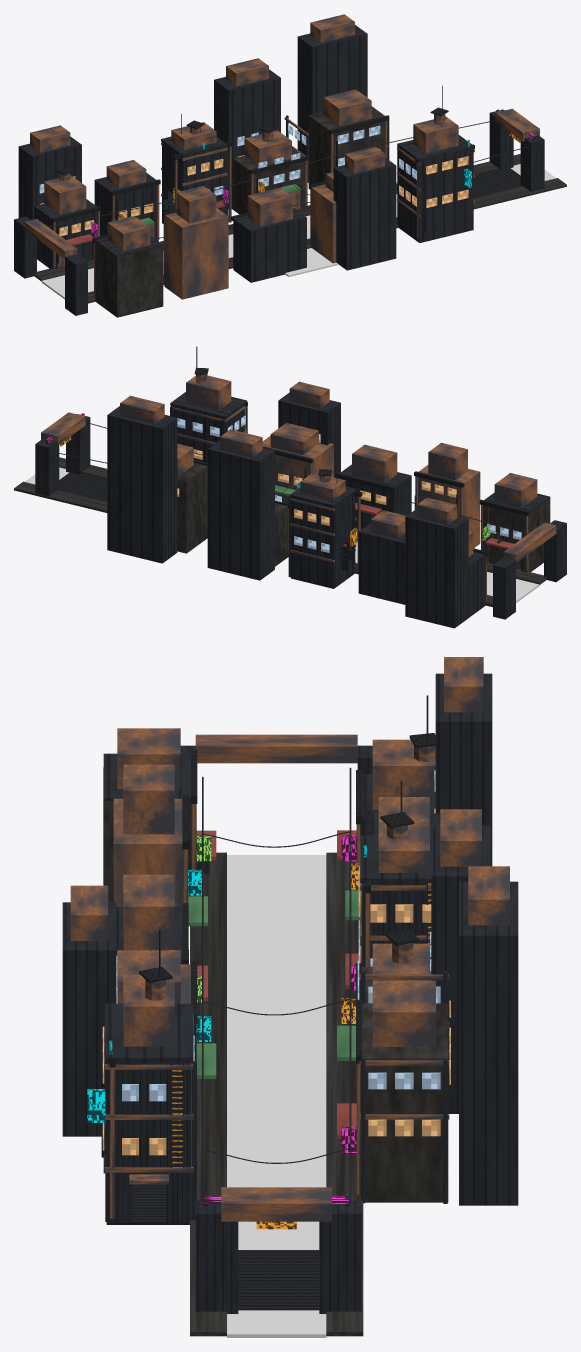
The model's file is Hesperus_AlienBar_CourtyardAlley.glb.
3 views of the same model, one above another, from view 1: azimuth 30°, elevation 25°; view 2: azimuth 150°, elevation 25°; view 3: azimuth 270°, elevation 25° (orthographic). The views are drawn at different scales.
Visible parts, largest first — view 1: ALY_TowerSouth_Mid, ALY_Building_04, ALY_TowerRear_E, ALY_Building_07, ALY_TowerRear_Mid, ALY_Shell10_FrontLeft, ALY_TowerRear_W, ALY_Shell03_Back, ALY_Building_09, ALY_Building_06, ALY_Building_02, ALY_Building_08 (+33 smaller); view 2: ALY_TowerRear_E, ALY_TowerRear_Mid, ALY_TowerRear_W, ALY_Building_02, ALY_Shell05_North, ALY_Building_09, ALY_TowerSouth_Mid, ALY_Building_04, ALY_Building_07, ALY_Building_08, ALY_RoofMass_07, ALY_BarGate_N (+29 smaller); view 3: ALY_StraightRoad, ALY_TowerRear_E, ALY_Building_09, ALY_StraightWalk_S, ALY_TowerSouth_Mid, ALY_StraightWalk_N, ALY_TowerRear_W, ALY_TowerRear_Mid, ALY_RampForecourt, ALY_BarGate_Header, ALY_CourtGate_S, ALY_CourtGate_N (+27 smaller).
Boxes of the visible parts, x1=… form: ALY_TowerSouth_Mid: x1=333, y1=157, x2=396, y2=270; ALY_Building_04: x1=164, y1=208, x2=228, y2=299; ALY_TowerRear_E: x1=297, y1=25, x2=367, y2=155; ALY_Building_07: x1=233, y1=207, x2=306, y2=282; ALY_TowerRear_Mid: x1=214, y1=69, x2=280, y2=208; ALY_Shell10_FrontLeft: x1=418, y1=149, x2=472, y2=242; ALY_TowerRear_W: x1=18, y1=136, x2=81, y2=219; ALY_Shell03_Back: x1=117, y1=246, x2=163, y2=316; ALY_Building_09: x1=308, y1=107, x2=384, y2=184; ALY_Building_06: x1=232, y1=147, x2=306, y2=214; ALY_Building_02: x1=94, y1=173, x2=158, y2=241; ALY_Building_08: x1=311, y1=184, x2=336, y2=263; ALY_TowerRear_E: x1=107, y1=406, x2=177, y2=563; ALY_TowerRear_Mid: x1=207, y1=440, x2=274, y2=580; ALY_TowerRear_W: x1=405, y1=509, x2=468, y2=628; ALY_Building_02: x1=358, y1=523, x2=405, y2=604; ALY_Shell05_North: x1=291, y1=498, x2=333, y2=587; ALY_Building_09: x1=177, y1=462, x2=207, y2=553; ALY_TowerSouth_Mid: x1=278, y1=392, x2=340, y2=477; ALY_Building_04: x1=418, y1=465, x2=480, y2=548; ALY_Building_07: x1=339, y1=464, x2=411, y2=529; ALY_Building_08: x1=262, y1=436, x2=333, y2=502; ALY_RoofMass_07: x1=352, y1=444, x2=397, y2=483; ALY_BarGate_N: x1=493, y1=557, x2=515, y2=619; ALY_StraightRoad: x1=227, y1=855, x2=326, y2=1337; ALY_TowerRear_E: x1=459, y1=881, x2=518, y2=1205; ALY_Building_09: x1=360, y1=1003, x2=448, y2=1202; ALY_StraightWalk_S: x1=190, y1=852, x2=226, y2=1336; ALY_TowerSouth_Mid: x1=62, y1=902, x2=116, y2=1136; ALY_StraightWalk_N: x1=326, y1=852, x2=363, y2=1336; ALY_TowerRear_W: x1=435, y1=673, x2=492, y2=866; ALY_TowerRear_Mid: x1=431, y1=825, x2=490, y2=1113; ALY_RampForecourt: x1=238, y1=1250, x2=319, y2=1310; ALY_BarGate_Header: x1=195, y1=734, x2=357, y2=763; ALY_CourtGate_S: x1=195, y1=1200, x2=238, y2=1313; ALY_CourtGate_N: x1=319, y1=1200, x2=361, y2=1313.
Bounding box in the file's own units: 81.5 × 23.28 × 32.15.
14 materials, 13 textured.
